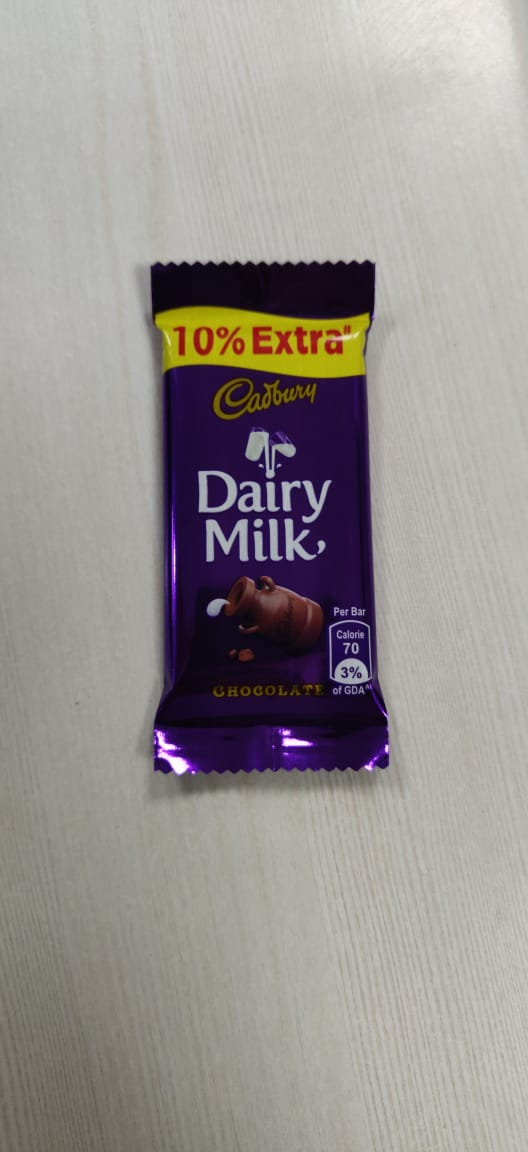dairy milk: (134, 249, 412, 788)
